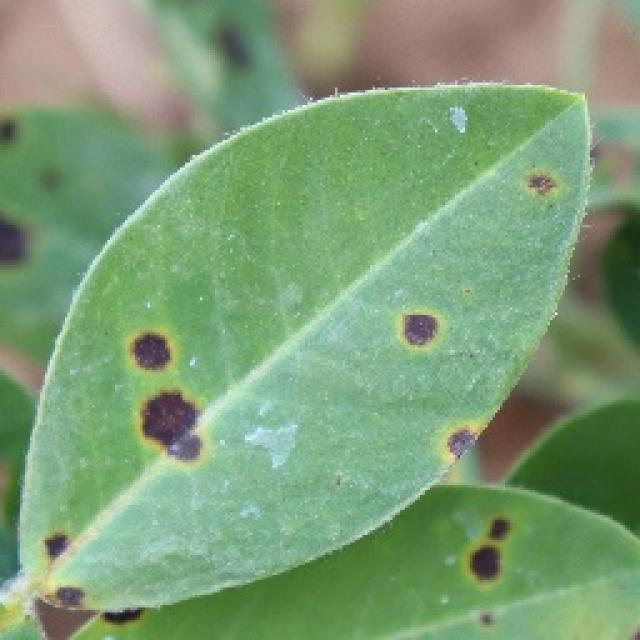Early_leaf_spot: (104, 312, 218, 488), (0, 103, 68, 263), (23, 502, 103, 620), (388, 281, 464, 401), (448, 508, 532, 614), (520, 135, 565, 240), (425, 399, 497, 458)
